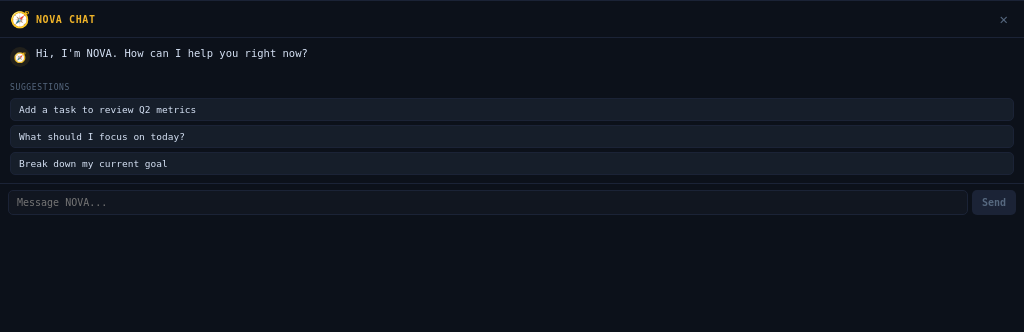
Test case: NovaCompassChat › handleSend › sends message and shows action confirmation when response has actions
In the field with placeholder "Message NOVA...": (488, 202) [8,190,968,215], type "add a task"
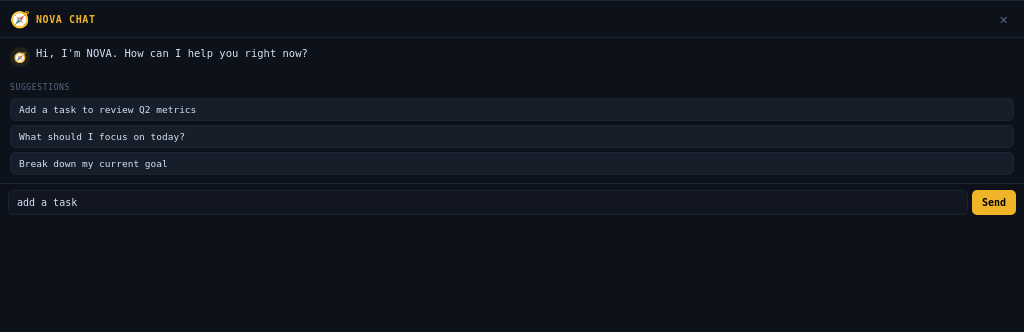
Click the button "Send": (994, 202) [972,190,1016,215]
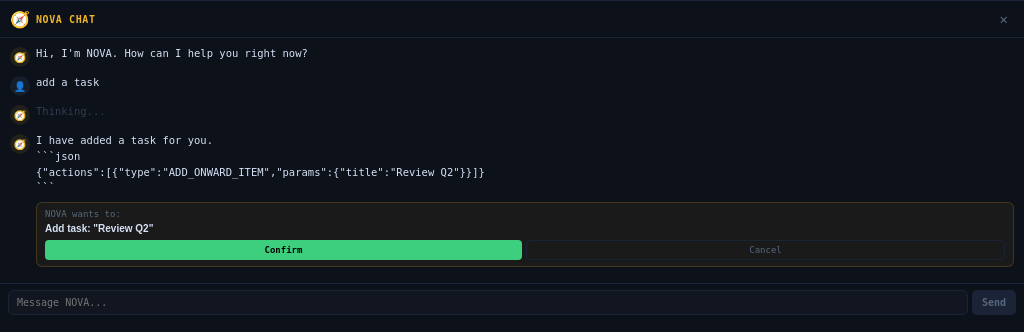
Now the text "NOVA wants to:" is shown, box [45,209,121,219]
Now the text "Add task: \"Review Q2\"" is shown, box [45,223,153,234]
Now the button "Confirm" is shown, box [45,240,522,260]
